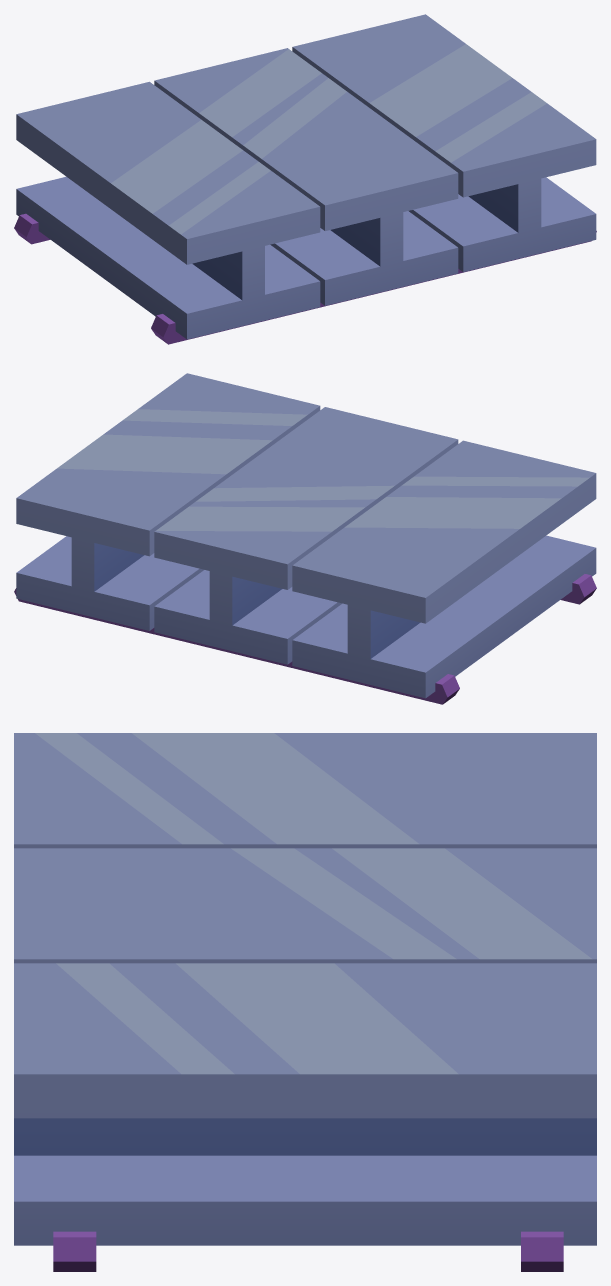
Rendered from obstacle-steel_beam_platform_H1W3.glb.
3 views of the same model, one above another, from view 1: azimuth 30°, elevation 25°; view 2: azimuth 150°, elevation 25°; view 3: azimuth 270°, elevation 25° (orthographic). The views are drawn at different scales.
Parts seen in each view (by area): view 1: obstacle-steel_beam_platform_H1W3; view 2: obstacle-steel_beam_platform_H1W3; view 3: obstacle-steel_beam_platform_H1W3.
Part boxes in pixels (box(x1,y1,x2,y2)): obstacle-steel_beam_platform_H1W3: box(14, 14, 596, 344); obstacle-steel_beam_platform_H1W3: box(14, 373, 596, 704); obstacle-steel_beam_platform_H1W3: box(14, 733, 596, 1271).
Size of the model in its own units: 8.8 by 2.18 by 6.
